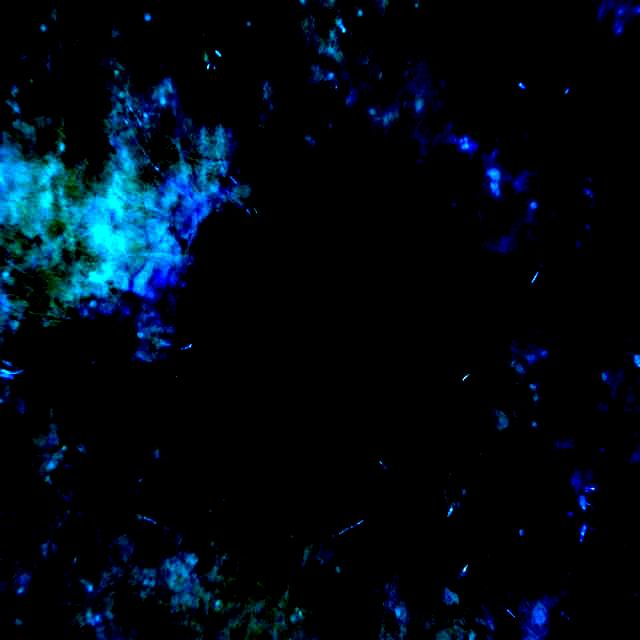BKL: (191, 164, 468, 457)
